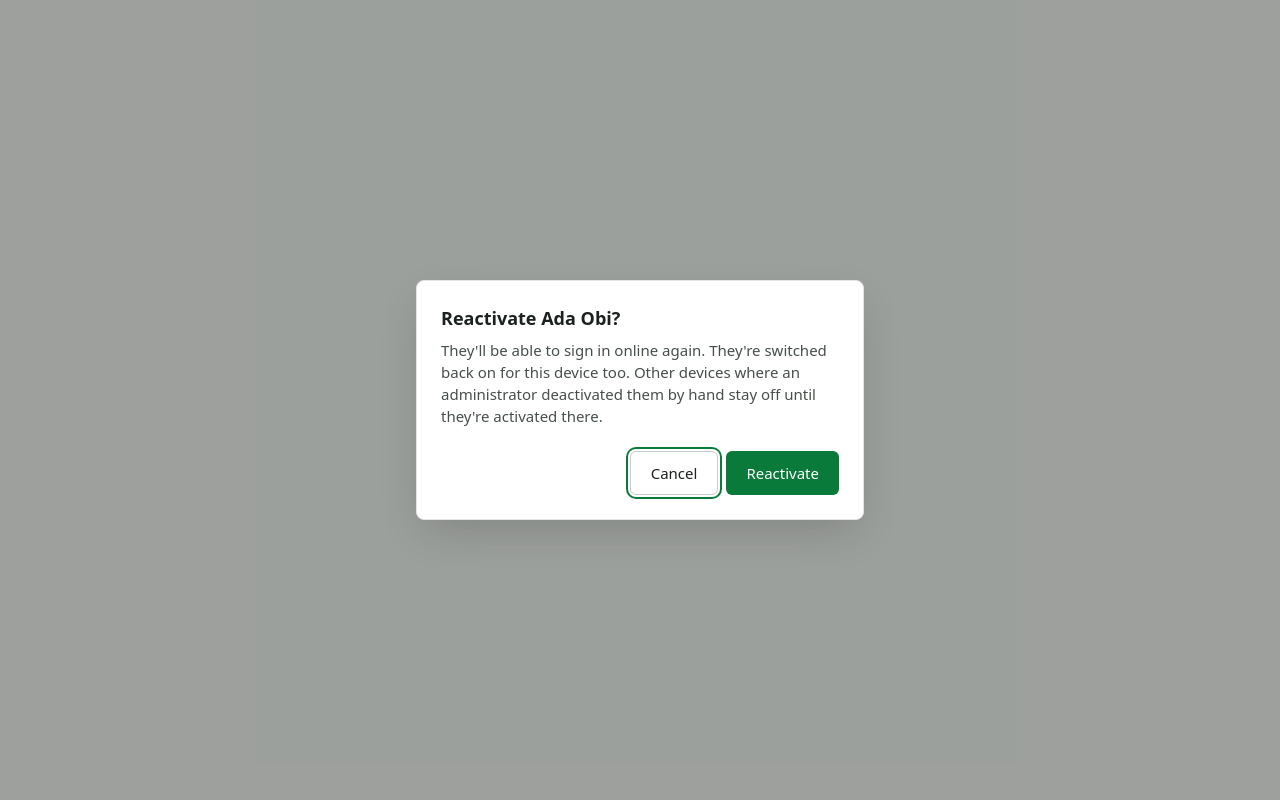
ReactivateDialog › shows a role picker when the server has no role to restore
Later steps or results of the test are not shown.
Click the button "Reactivate": click(783, 473) [726,451,839,495]
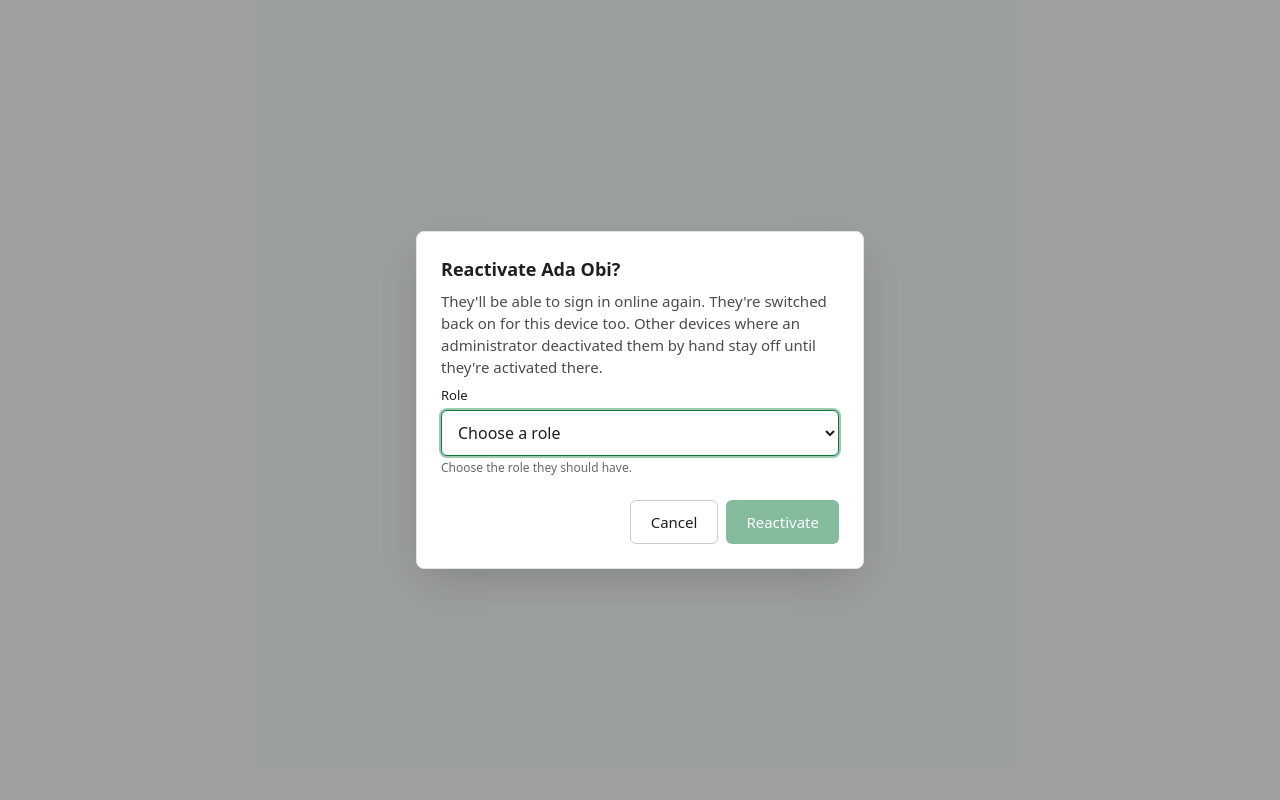
Result: the button "Reactivate" is disabled at [726,500,839,544]
Result: the message reads "Choose the role they should have." at [441,459,632,476]
Select "Nurse" in the dropdown labelled "Role": (640, 433) [441,410,839,456]
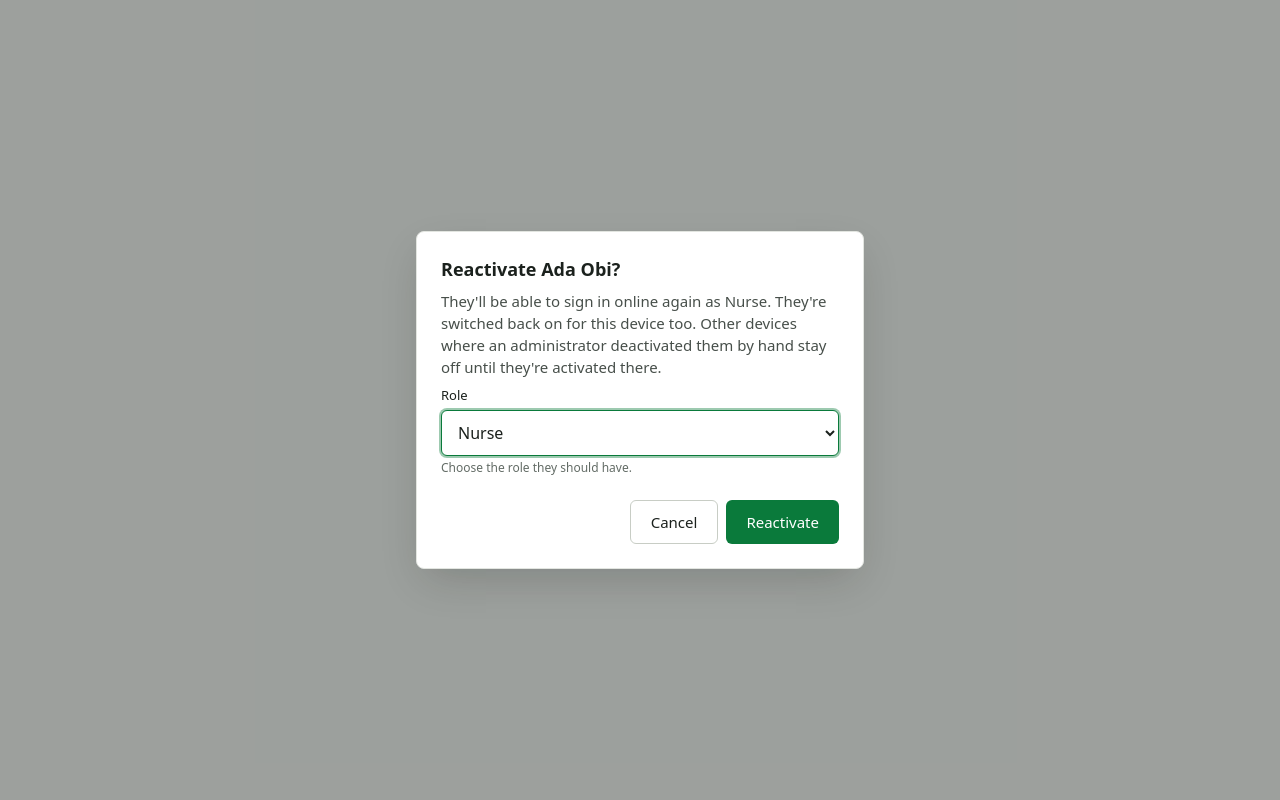
Result: the button "Reactivate" is enabled at [726,500,839,544]
